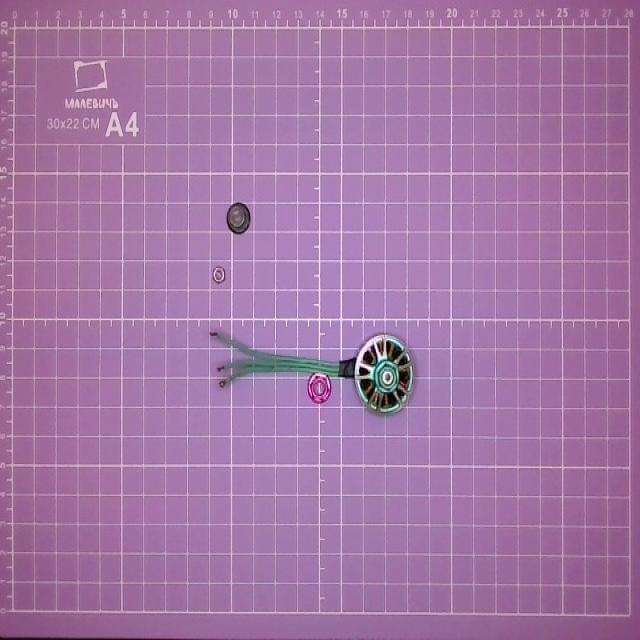motor: (208, 322, 418, 417)
screw_M3: (209, 253, 230, 295)
screw_M5: (224, 191, 253, 238), (307, 373, 331, 404)
